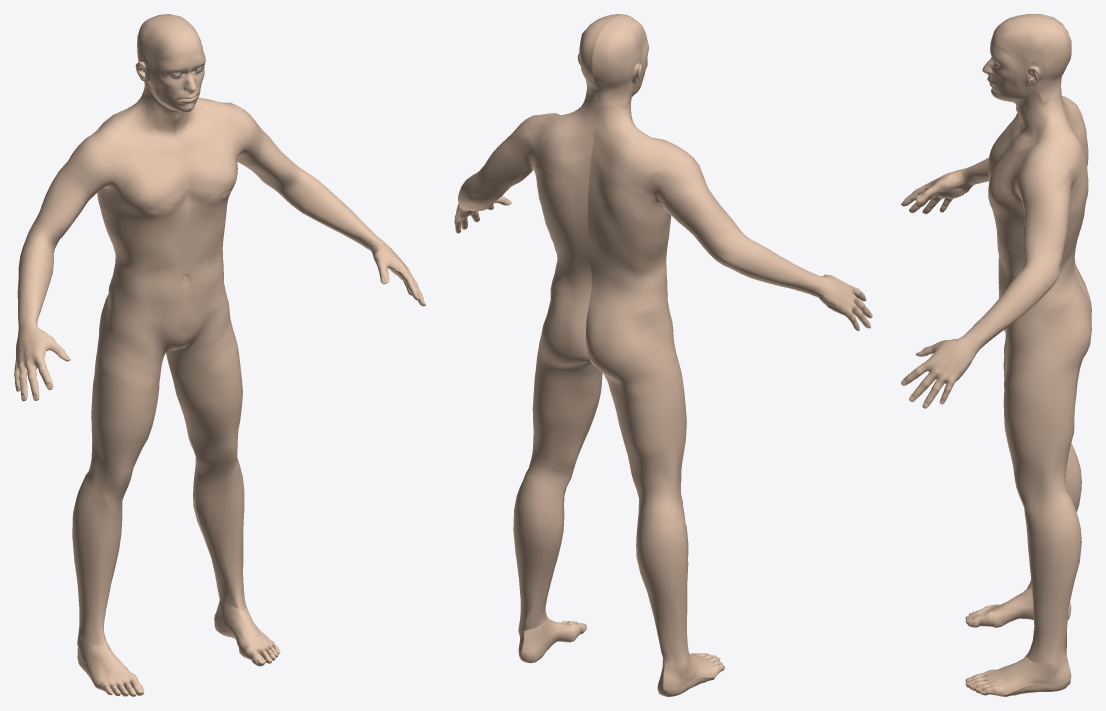
File: body_travel_suit.glb
The picture shows the model from 3 angles, left to right: view 1: azimuth 30°, elevation 25°; view 2: azimuth 150°, elevation 25°; view 3: azimuth 270°, elevation 25°; orthographic projection.
Visible parts, largest first — view 1: Body; view 2: Body; view 3: Body.
Part boxes in pixels (x1=…): Body: x1=14, y1=14, x2=425, y2=696; Body: x1=454, y1=14, x2=872, y2=696; Body: x1=901, y1=14, x2=1091, y2=696.
Size of the model in its own units: 1.15 by 1.74 by 0.4725.
